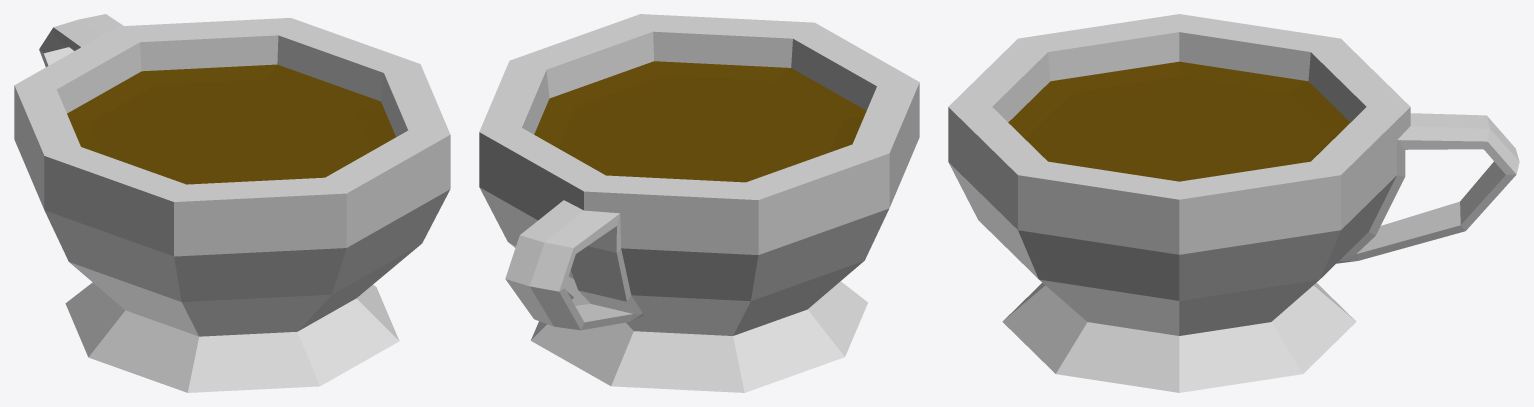
The model's file is tasseCafeBlanc.glb.
3 views of the same model, side by side, from view 1: azimuth 30°, elevation 25°; view 2: azimuth 150°, elevation 25°; view 3: azimuth 270°, elevation 25° (orthographic).
Parts seen in each view (by area): view 1: Cube; view 2: Cube; view 3: Cube.
Boxes of the visible parts, x1=… form: Cube: x1=14, y1=14, x2=450, y2=392; Cube: x1=479, y1=14, x2=919, y2=392; Cube: x1=948, y1=14, x2=1519, y2=392.
Size of the model in its own units: 2.72 by 1.47 by 3.54.
